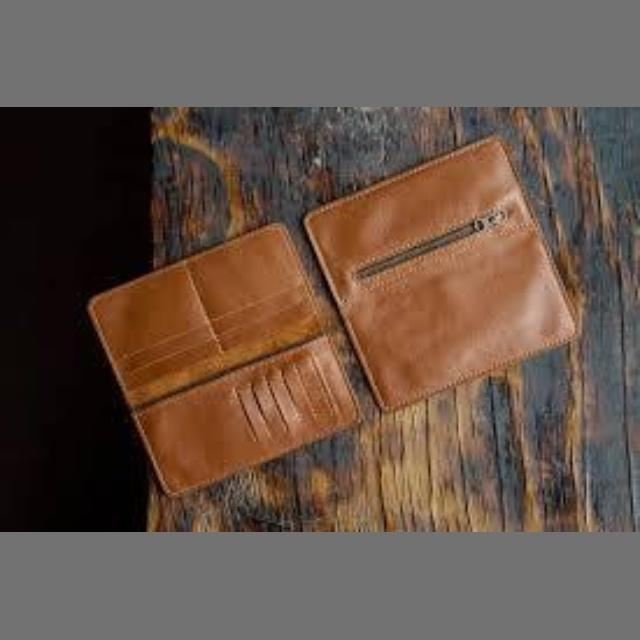Wallet: (319, 126, 640, 427), (65, 218, 355, 510)
